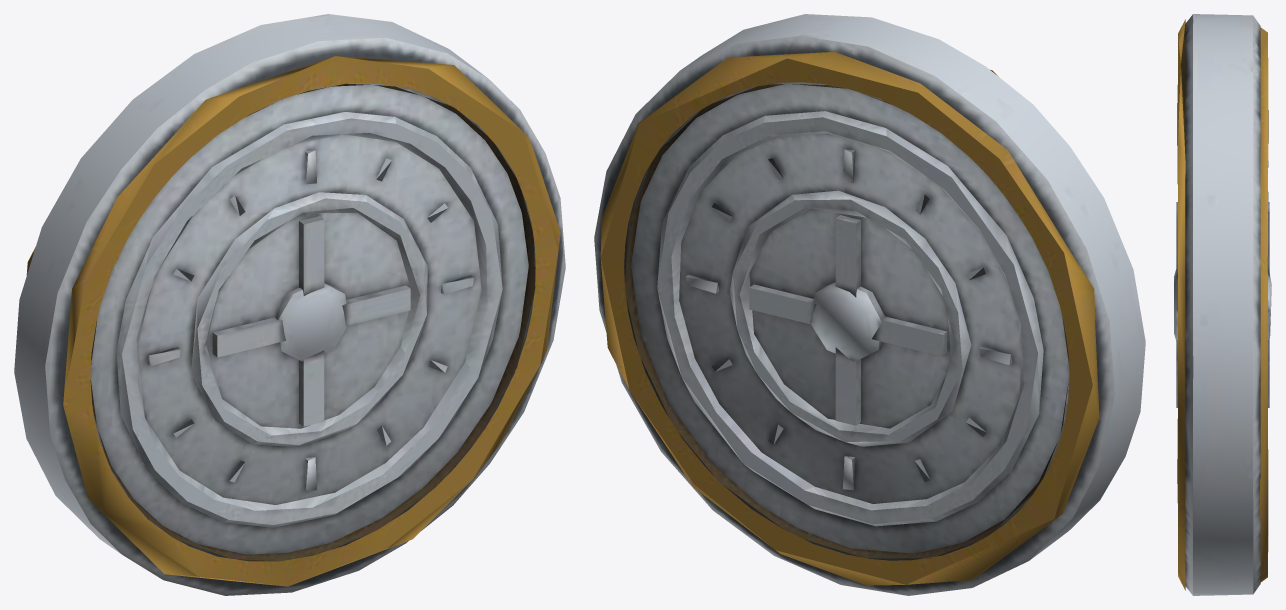
3 renders of one model, left to right at view 1: azimuth 30°, elevation 25°; view 2: azimuth 150°, elevation 25°; view 3: azimuth 270°, elevation 25°, orthographic. The views are drawn at different scales.
Parts seen in each view (by area): view 1: Polished_silver, Aged_engraved_brass, Brass_groove_patina; view 2: Polished_silver, Aged_engraved_brass, Brass_groove_patina; view 3: Polished_silver, Aged_engraved_brass, Brass_groove_patina.
Boxes of the visible parts, x1,y1,x2,y2 form: Polished_silver: (14, 14, 565, 595); Aged_engraved_brass: (26, 56, 560, 586); Brass_groove_patina: (90, 83, 535, 561); Polished_silver: (594, 14, 1145, 595); Aged_engraved_brass: (600, 52, 1099, 585); Brass_groove_patina: (625, 84, 1068, 558); Polished_silver: (1174, 14, 1271, 595); Aged_engraved_brass: (1178, 19, 1268, 590); Brass_groove_patina: (1177, 85, 1268, 535).
Size of the model in its own units: 0.9589 by 0.9589 by 0.1608.
Materials: 3 (3 with a texture image).
